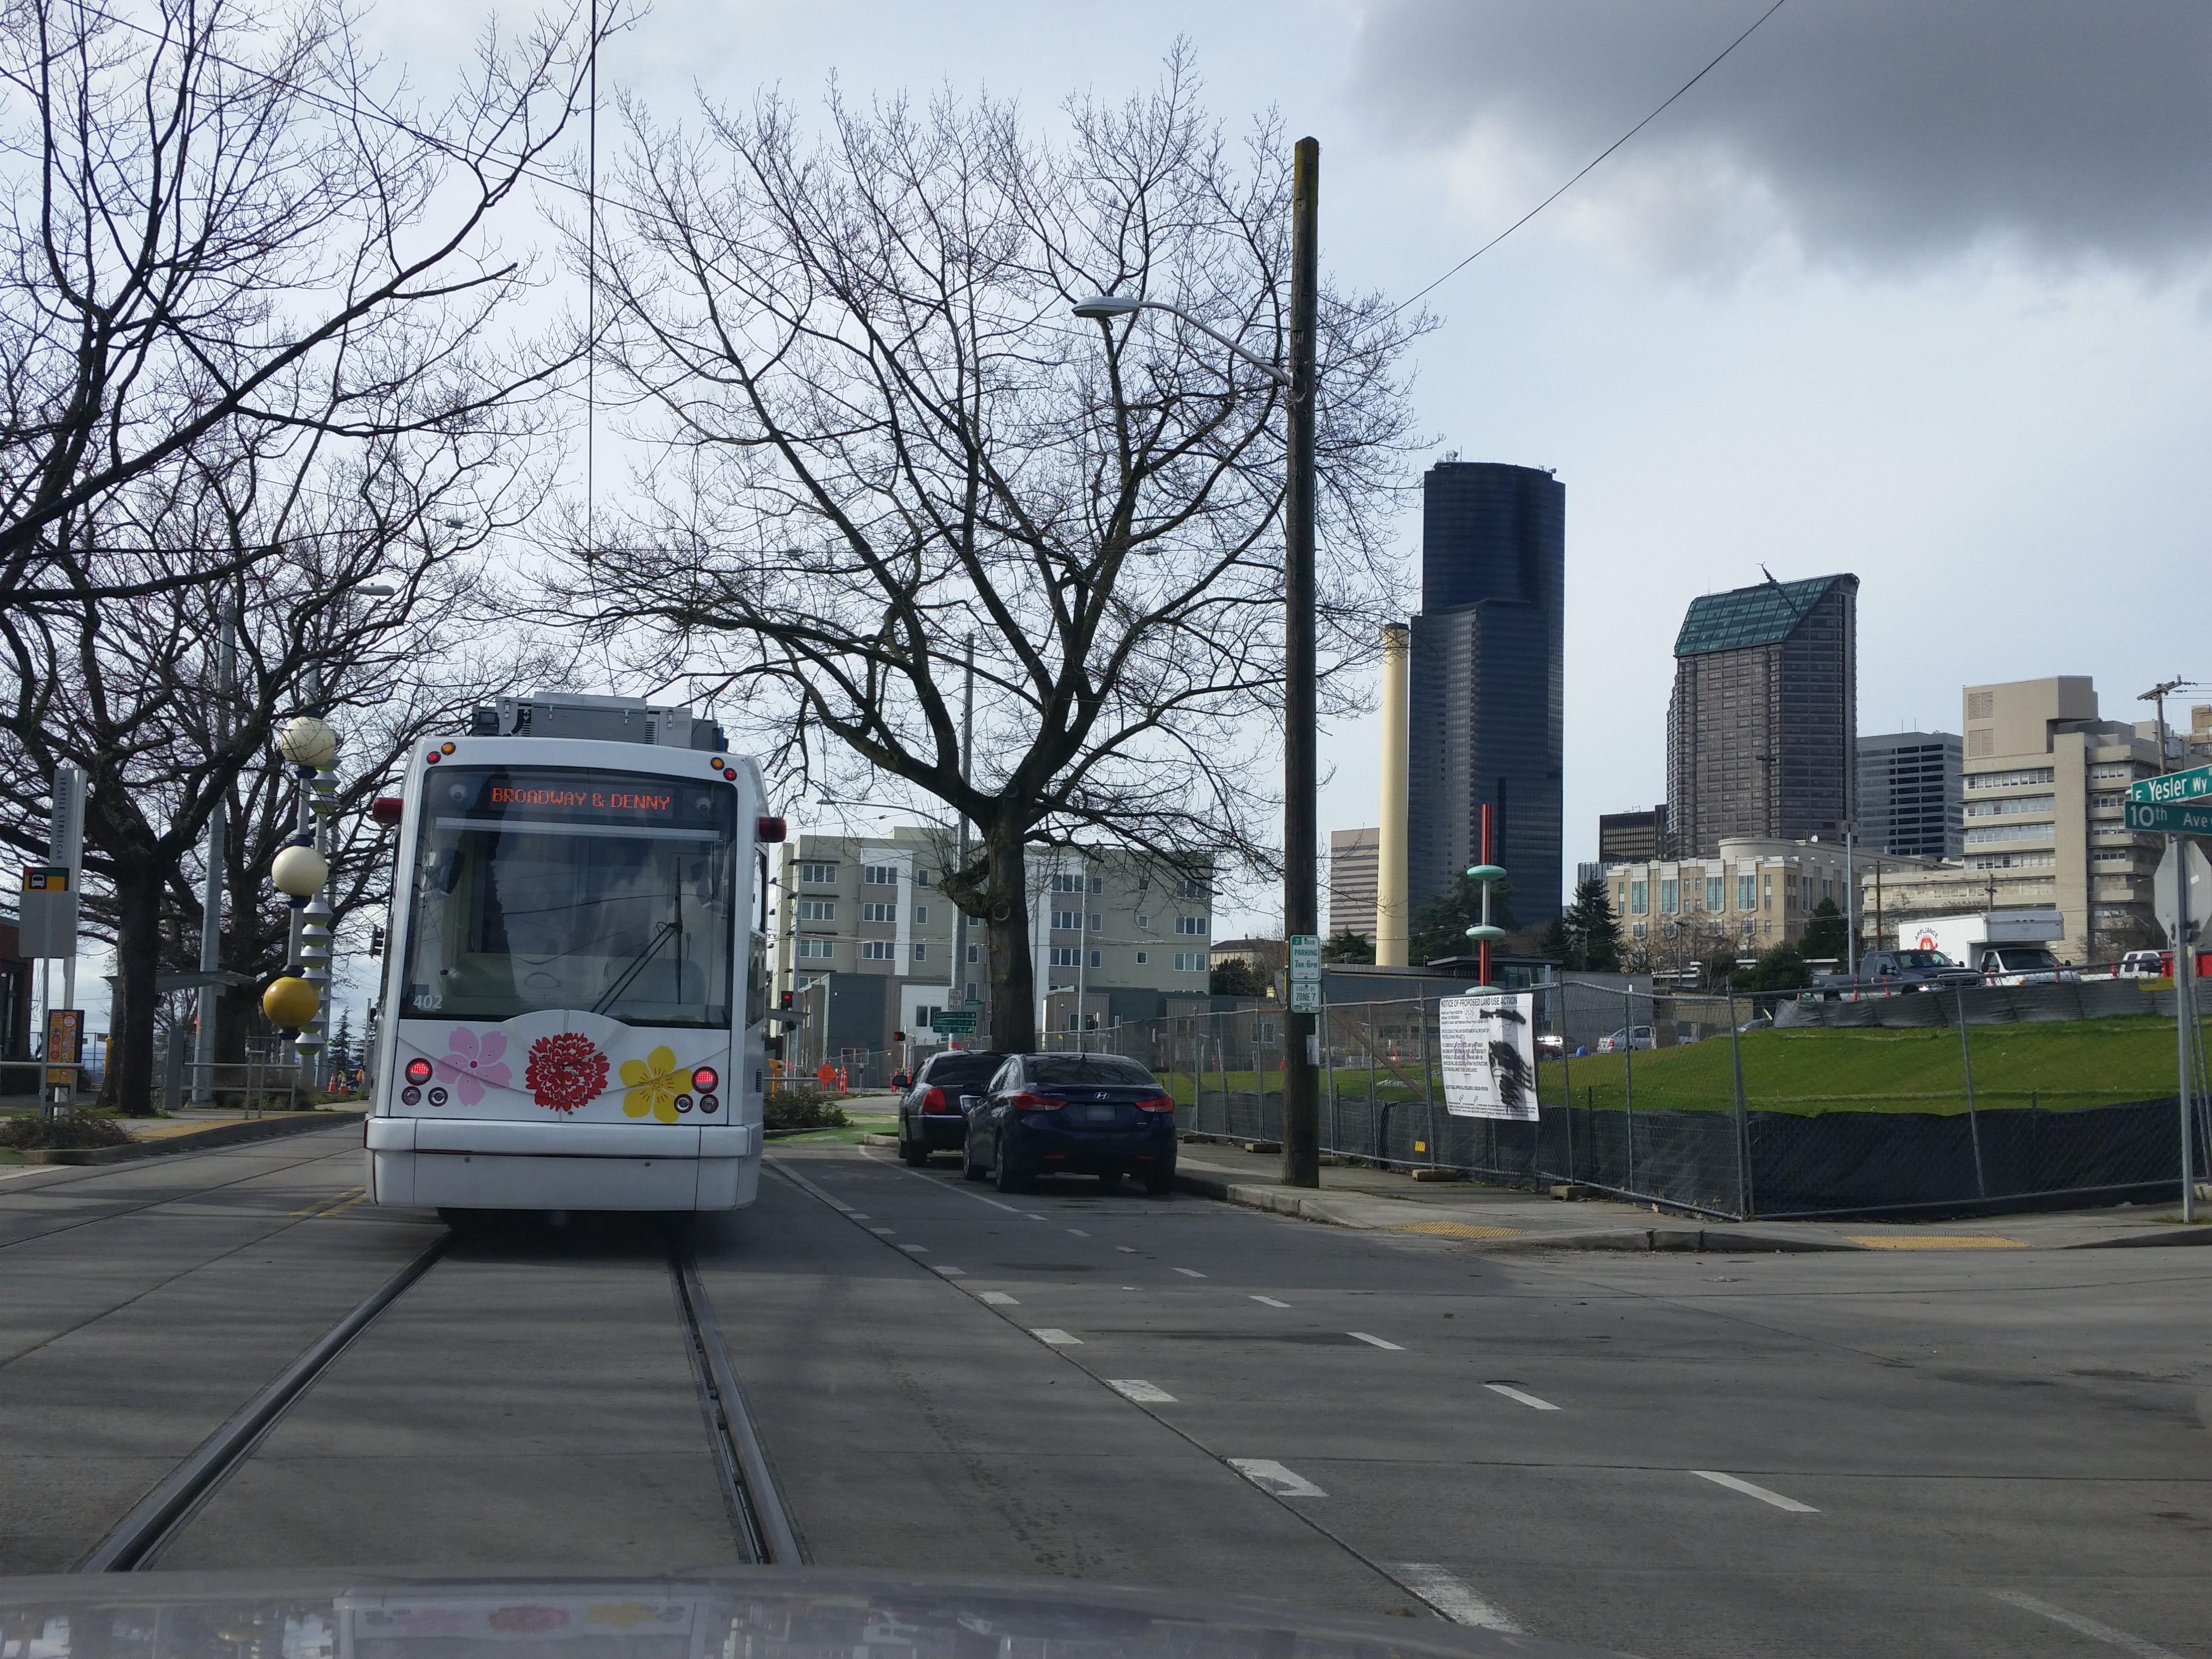vinyl banner: (1426, 978, 1573, 1127)
